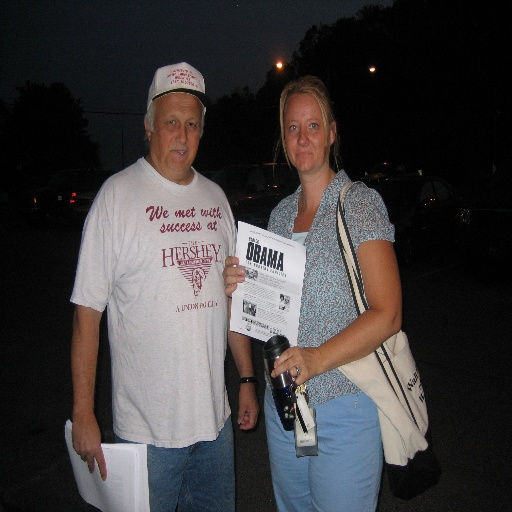hand: (70, 411, 108, 482), (270, 341, 317, 385), (219, 254, 245, 299), (236, 384, 258, 431)
